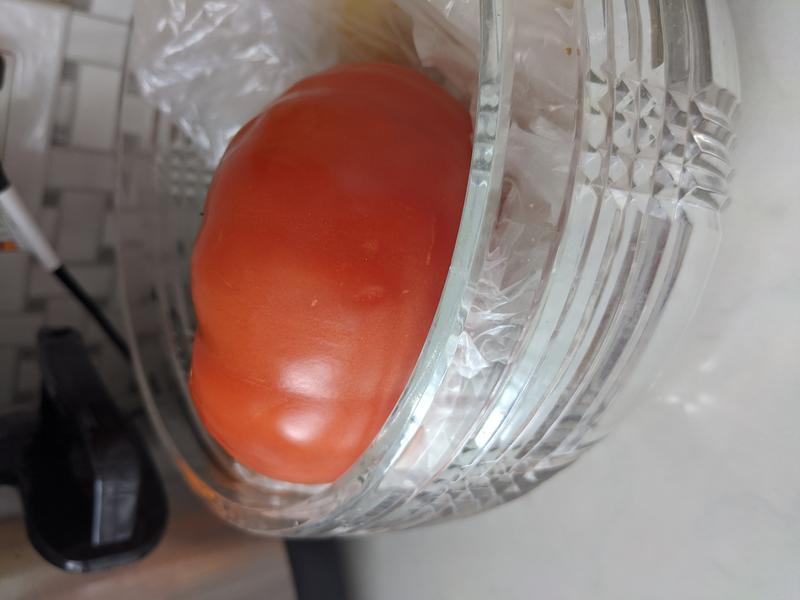tomato: (188, 58, 475, 487)
